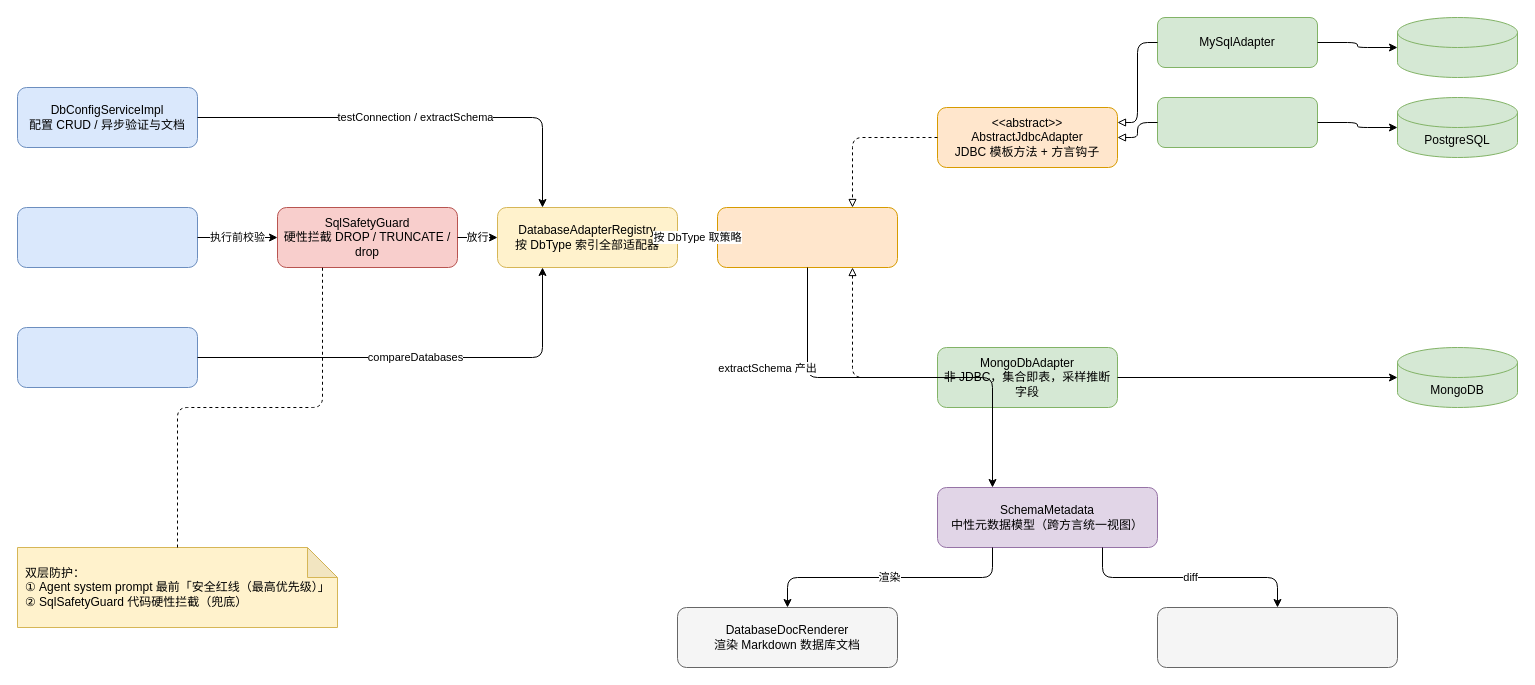
Some shapes in this 1535 by 685 pixel diagram are drawn without their labels. The centre of each missing label's shape, as x and y in pixels:
<<interface>> DatabaseAdapter: point (807, 237)
DbCompareTool 跨类型结构对比: point (107, 357)
MySQL: point (1457, 47)
PostgreSqlAdapter: point (1237, 122)
SqlExecuteTool SQL / MongoDB 命令执行: point (107, 237)
跨类型结构 diff newTables / droppedTables / alteredTables: point (1277, 637)
